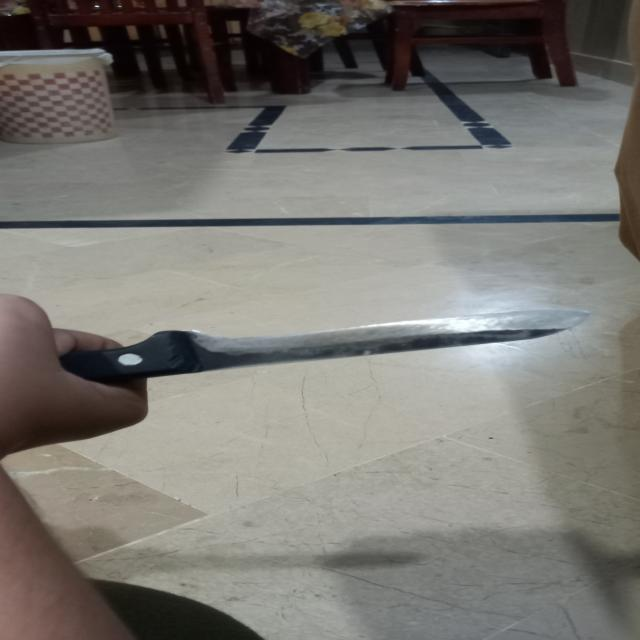Knife: (29, 306, 604, 385)
